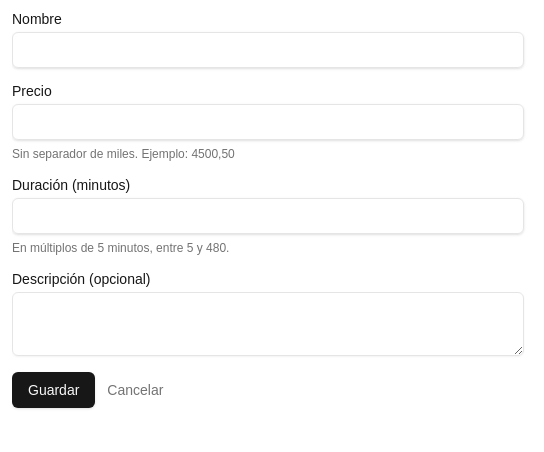
ServiceForm — rejected submit preserves all values › should_keep_all_four_typed_values_after_rejection
In the field labelled "Nombre": (268,50) [12, 32, 524, 68], type "Corte Clásico"
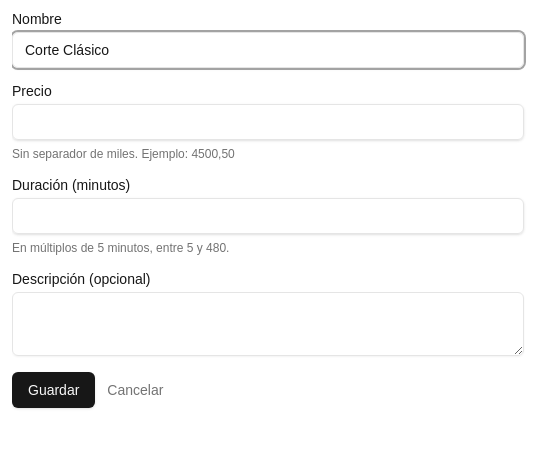
In the field labelled "Precio": (268,122) [12, 104, 524, 140], type "4500,50"
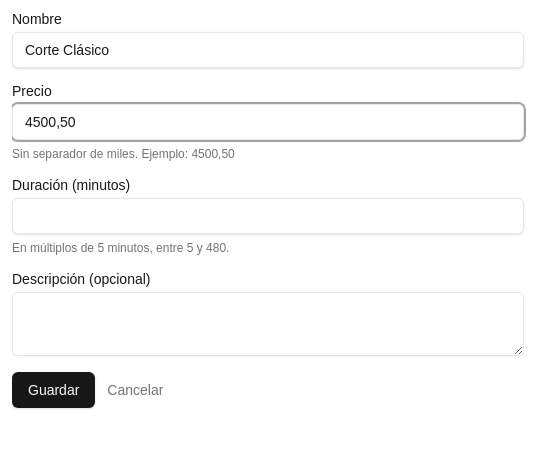
In the field labelled "Duración (minutos)": (268,216) [12, 198, 524, 234], type "30"
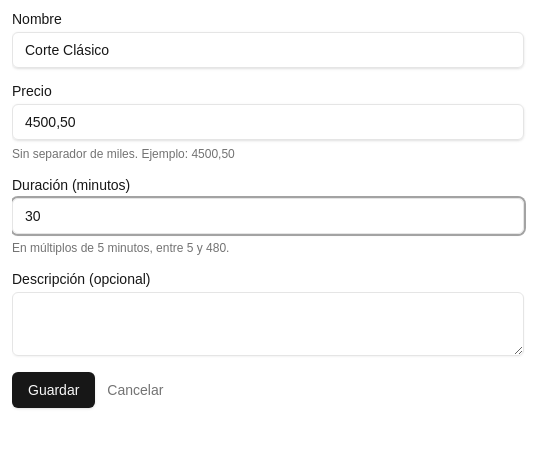
In the text box labelled "Descripción (opcional)": (268,324) [12, 292, 524, 356], type "Corte con máquina y tijera"
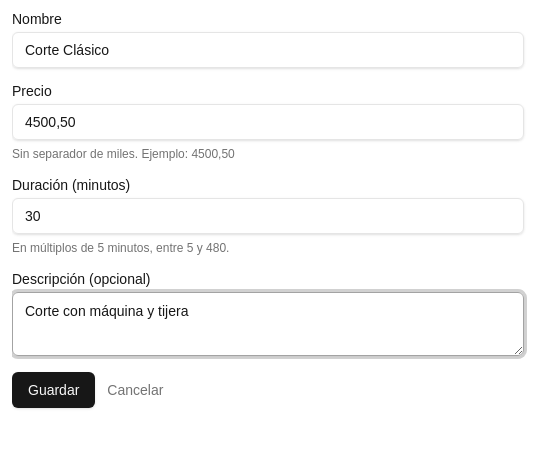
Click the button "Guardar": (54,390) [12, 372, 95, 408]
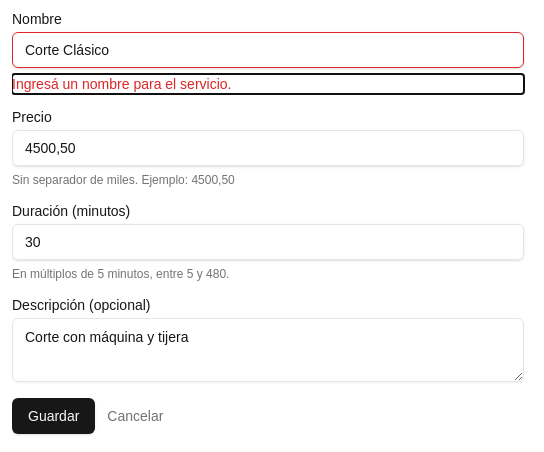
Check: the message "Ingresá un nombre para el servicio." is shown, box [12, 76, 232, 92]
